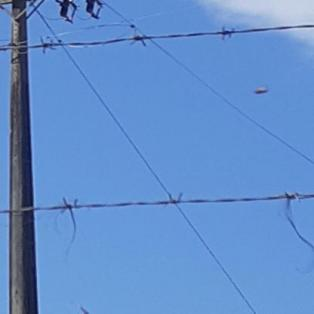Poste: (0, 0, 52, 314)
